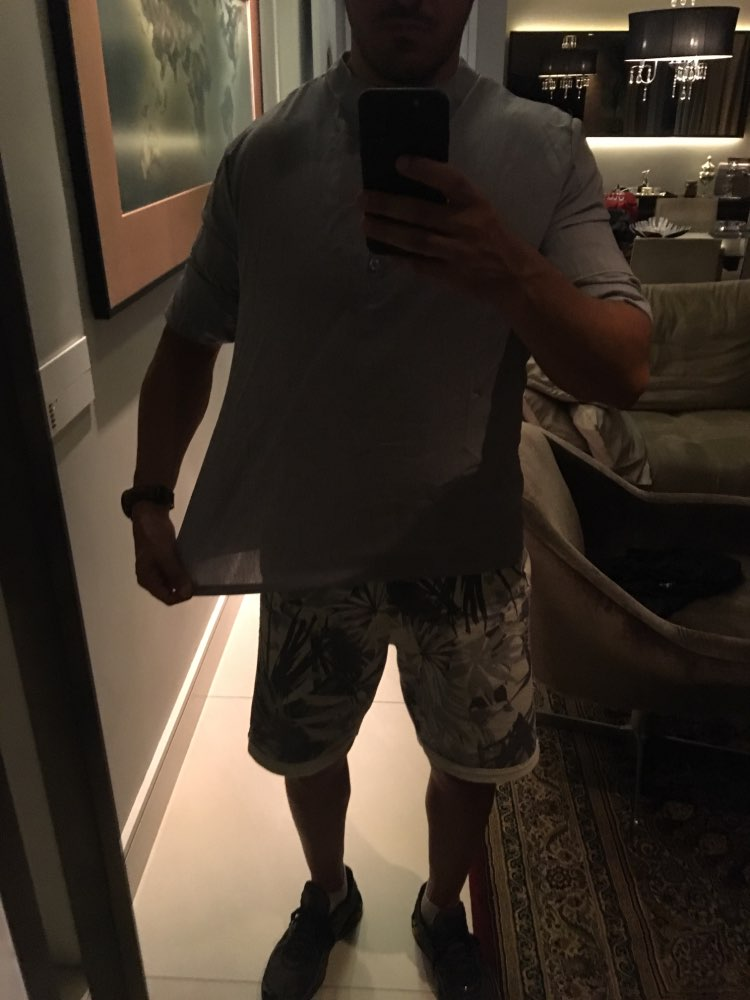shirts: (163, 57, 628, 572)
